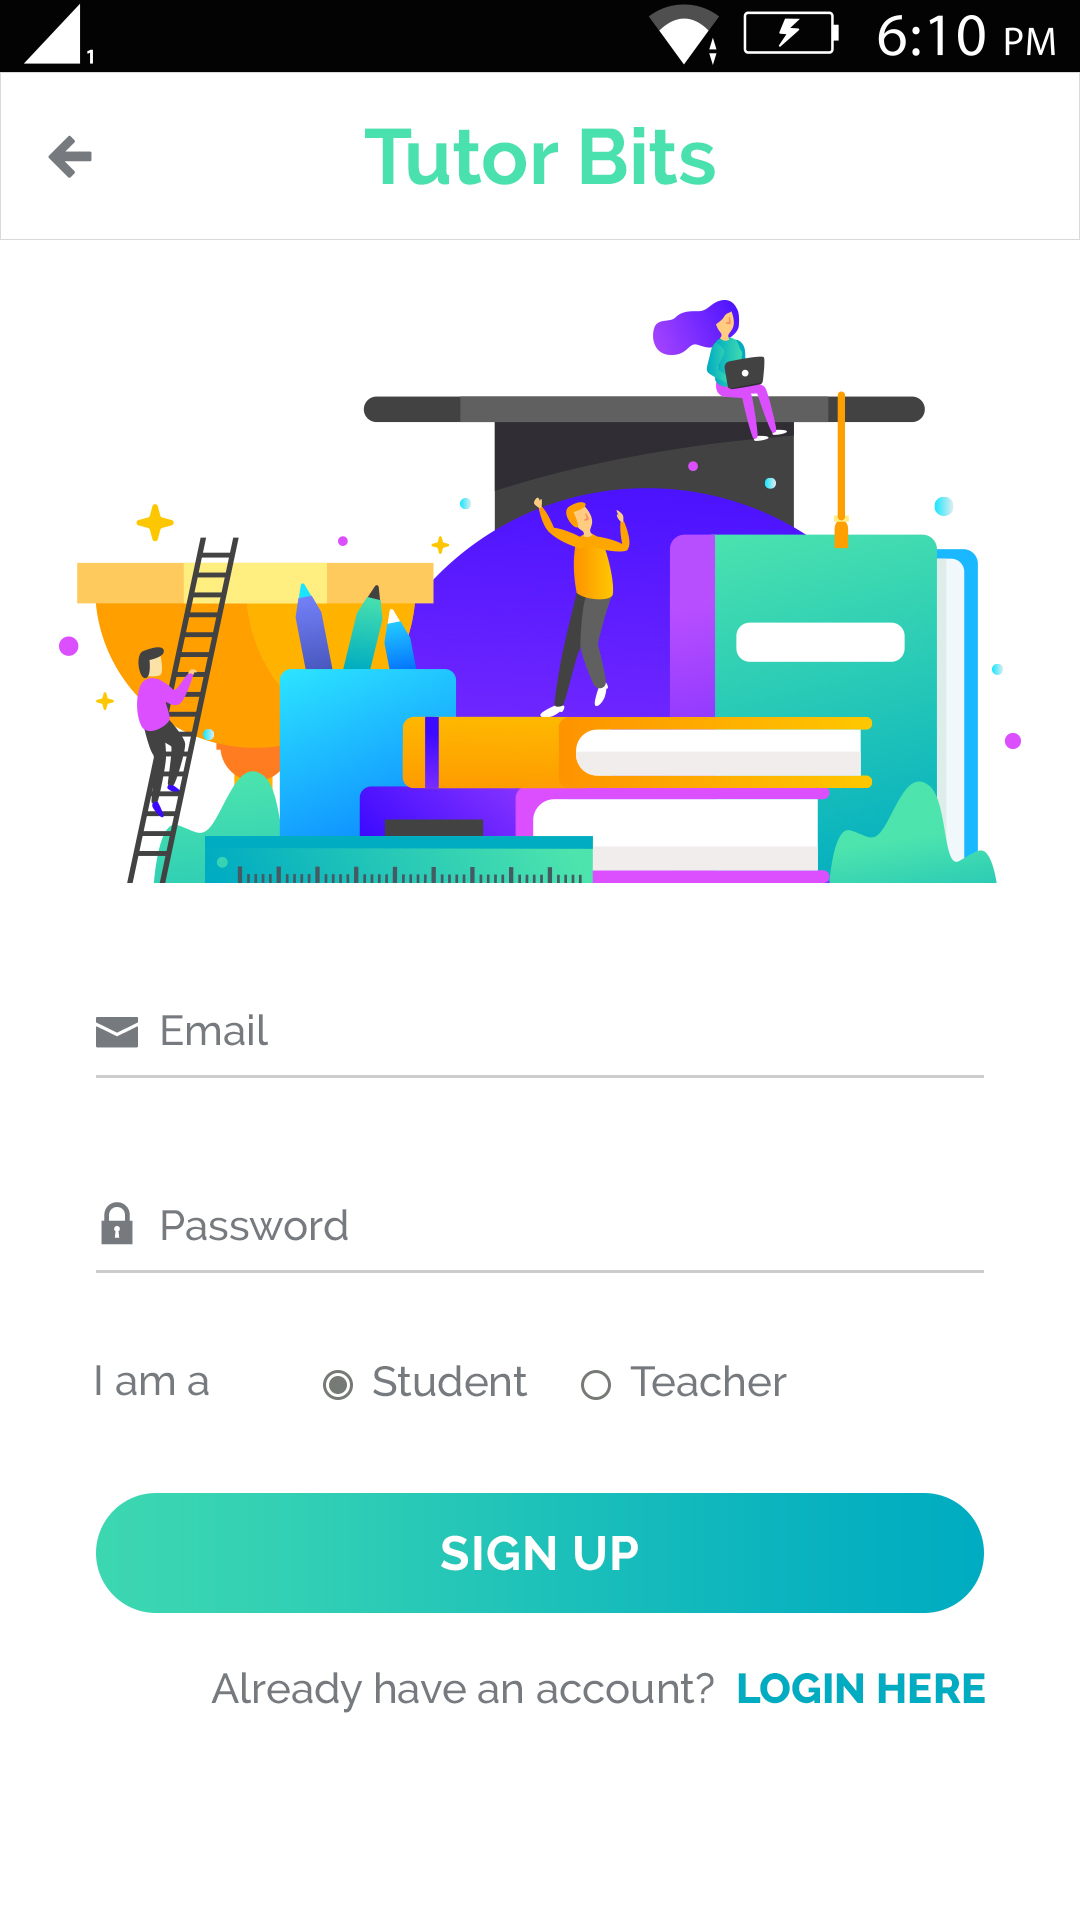CheckedTextView: (580, 1362, 789, 1402), (323, 1364, 530, 1402)
EditText: (96, 1201, 985, 1274), (96, 1013, 985, 1079)
Icon: (47, 136, 94, 179), (102, 1203, 135, 1245), (96, 1017, 138, 1048)
Image: (59, 301, 1022, 884)
Text: (211, 1671, 715, 1714), (365, 127, 716, 187), (738, 1672, 986, 1705), (162, 1209, 349, 1242), (630, 1364, 789, 1398), (373, 1364, 529, 1398), (96, 1364, 210, 1396), (164, 1014, 269, 1047)
TextButton: (96, 1493, 985, 1614)
UpperTaskBar: (1, 1, 1080, 74)
